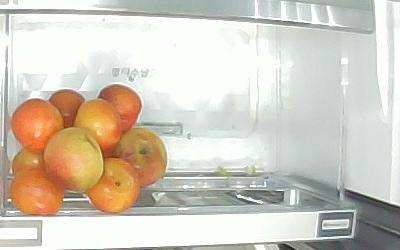prune: (44, 127, 103, 193), (111, 128, 168, 188), (88, 157, 141, 214), (72, 99, 122, 159), (11, 98, 64, 153), (11, 166, 64, 217), (98, 85, 142, 134), (12, 148, 63, 189), (49, 89, 85, 128)
